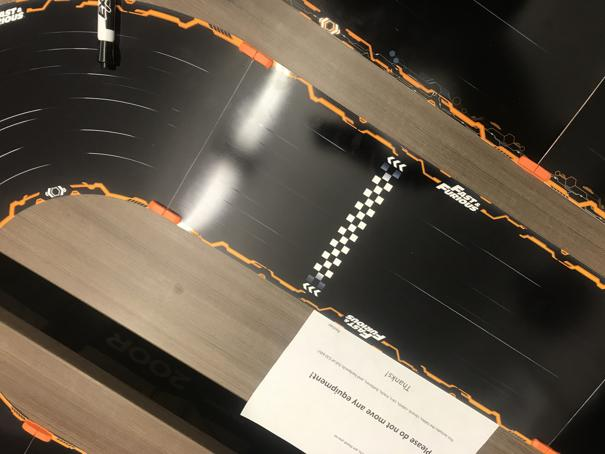Finish Line: (301, 156, 408, 298)
